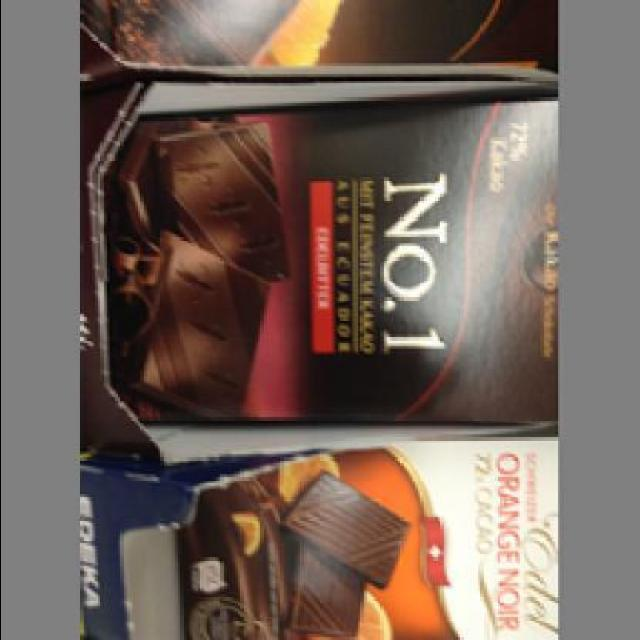Chocolate bar: (103, 84, 560, 428), (174, 432, 560, 637)
